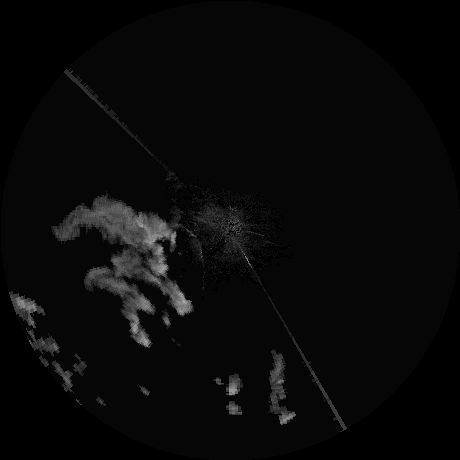frontgust: (177, 226, 205, 265)
